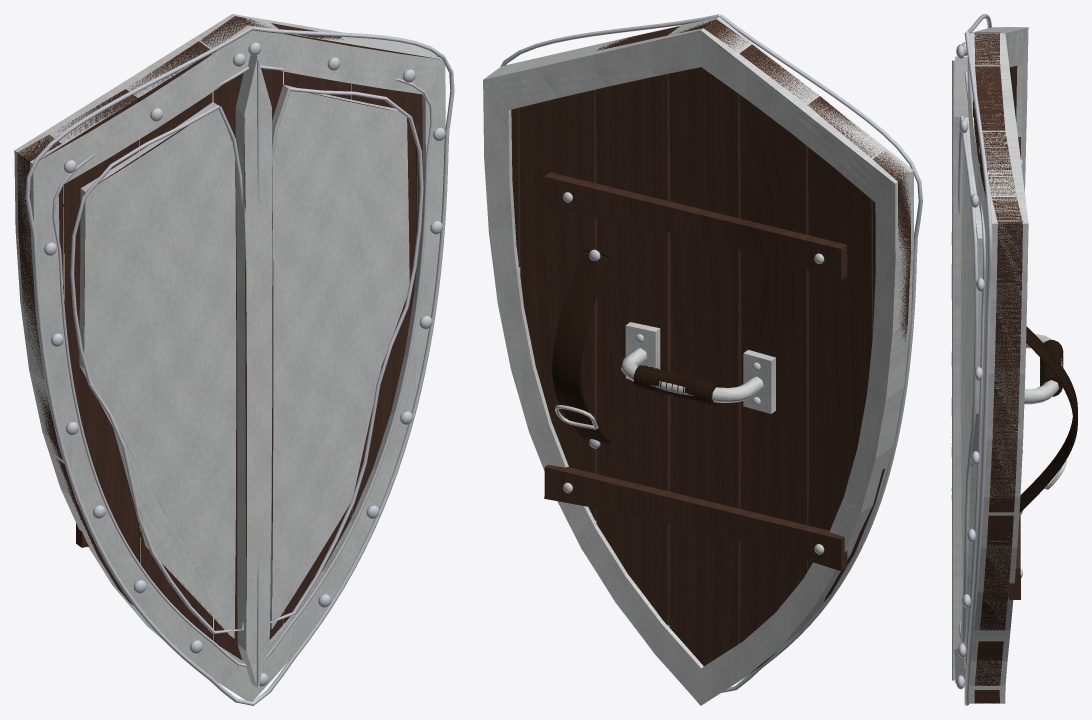
The model's file is cinderpine_shield.glb.
The picture shows the model from 3 angles, left to right: view 1: azimuth 30°, elevation 25°; view 2: azimuth 150°, elevation 25°; view 3: azimuth 270°, elevation 25°; orthographic projection.
Parts seen in each view (by area): view 1: cinderpine_shield-forged-shield-metal, cinderpine_shield-dark-walnut, cinderpine_shield-worn-polished-edges; view 2: cinderpine_shield-dark-walnut, cinderpine_shield-forged-shield-metal, cinderpine_shield-rear-oiled-leather, cinderpine_shield-worn-polished-edges; view 3: cinderpine_shield-forged-shield-metal, cinderpine_shield-dark-walnut, cinderpine_shield-worn-polished-edges, cinderpine_shield-rear-oiled-leather.
Part boxes in pixels (x1,y1,x2,y2): cinderpine_shield-forged-shield-metal: [14, 14, 445, 701]; cinderpine_shield-dark-walnut: [17, 16, 439, 660]; cinderpine_shield-worn-polished-edges: [25, 26, 454, 705]; cinderpine_shield-dark-walnut: [511, 19, 910, 674]; cinderpine_shield-forged-shield-metal: [483, 17, 913, 705]; cinderpine_shield-rear-oiled-leather: [552, 250, 720, 444]; cinderpine_shield-worn-polished-edges: [500, 14, 922, 692]; cinderpine_shield-forged-shield-metal: [951, 27, 1066, 703]; cinderpine_shield-dark-walnut: [970, 27, 1022, 703]; cinderpine_shield-worn-polished-edges: [952, 14, 1023, 705]; cinderpine_shield-rear-oiled-leather: [1019, 326, 1077, 512].
Size of the model in its own units: 0.6236 by 0.9452 by 0.1614.
4 materials, 4 textured.
